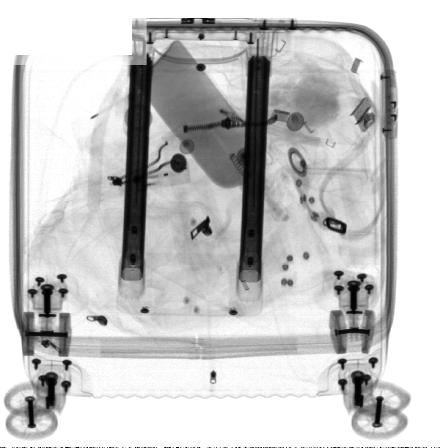Lighter: (132, 165, 191, 188)
